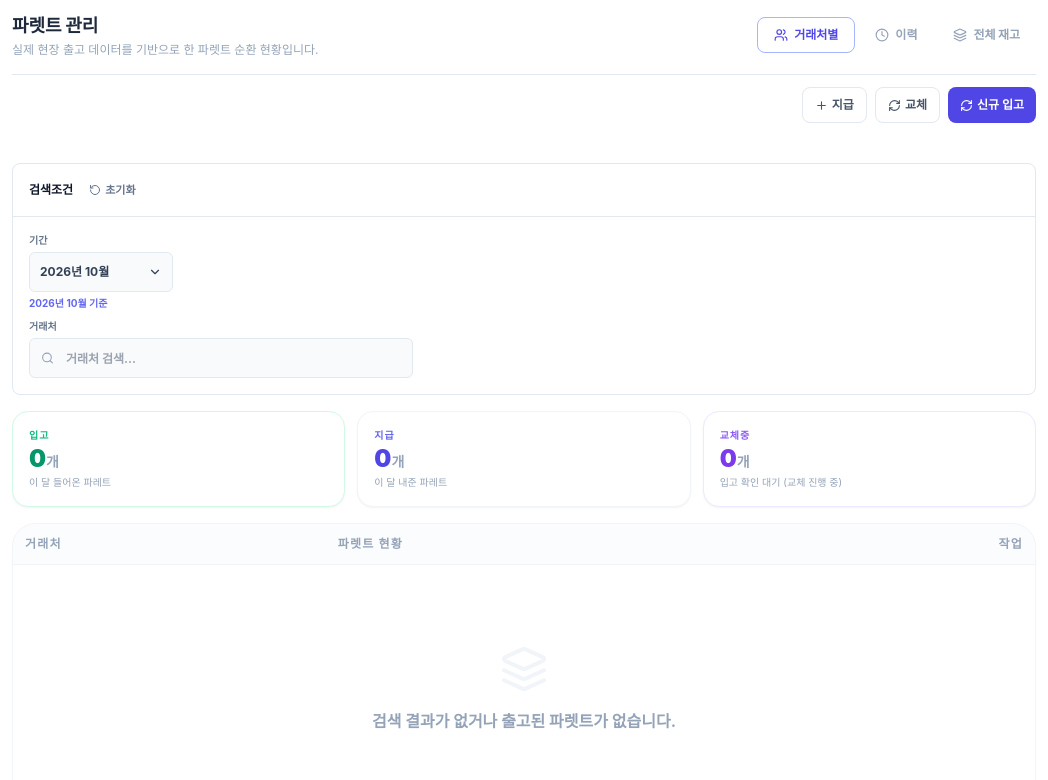
Test case: 이전 회사의 늦은 응답이 새 회사 과거 이력을 덮지 않는다
Click the button "이력" at {"x": 896, "y": 35}, box x1=859 y1=17 x2=933 y2=53
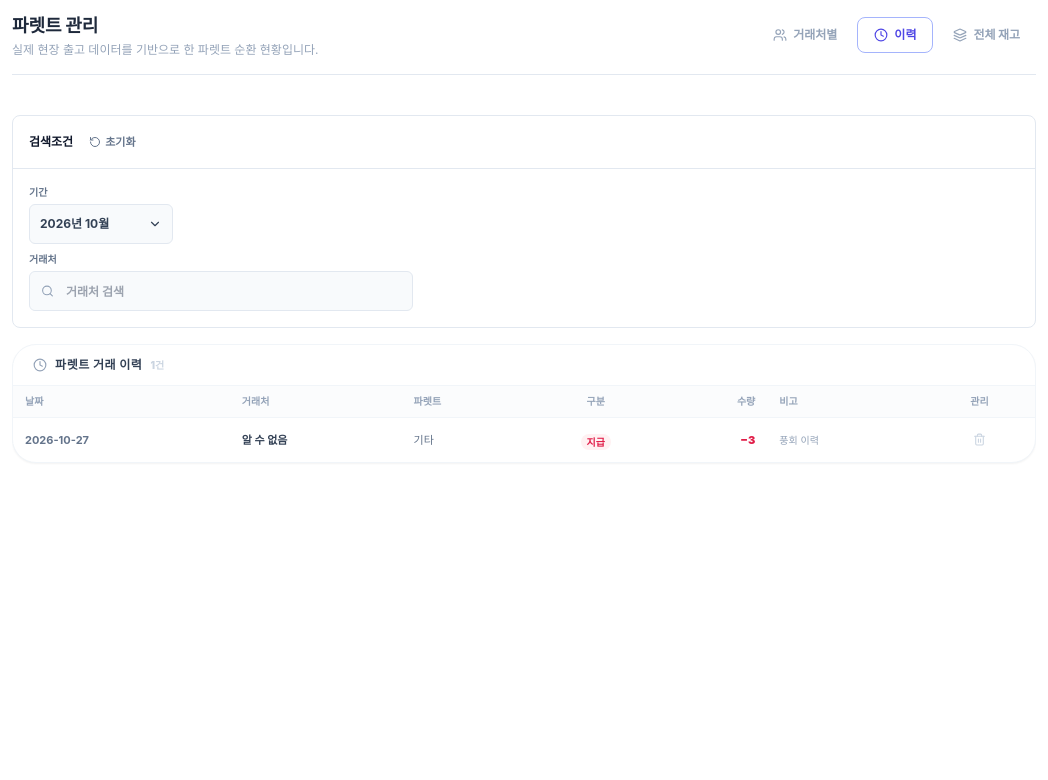
Expected: the text "풍회 이력" is shown, x1=767 y1=418 x2=924 y2=462
